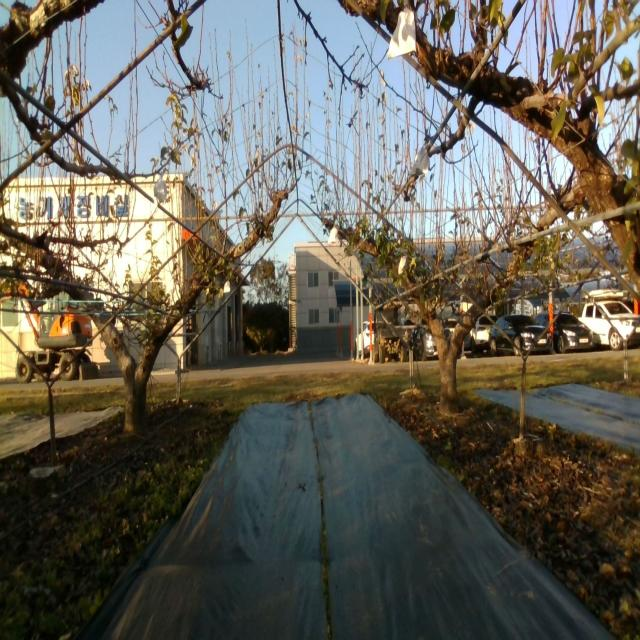pearbags: (386, 7, 416, 62), (409, 147, 430, 176), (154, 171, 168, 207), (327, 226, 339, 246)
